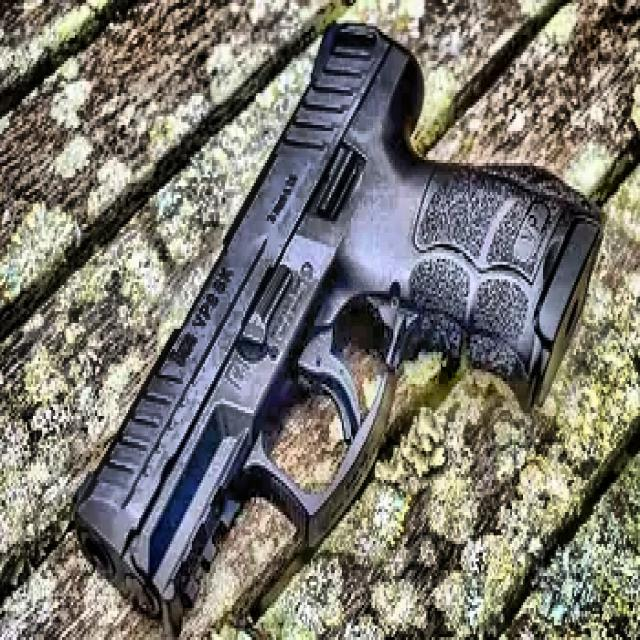HKVP9: (72, 15, 606, 634)
